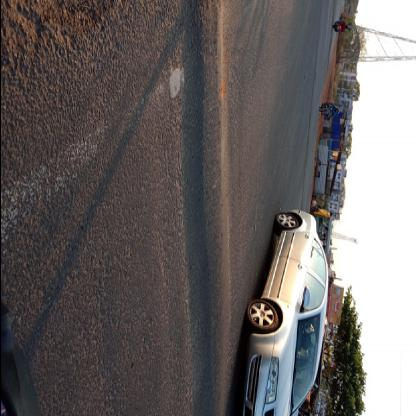speed-bumps: (184, 0, 235, 415)
